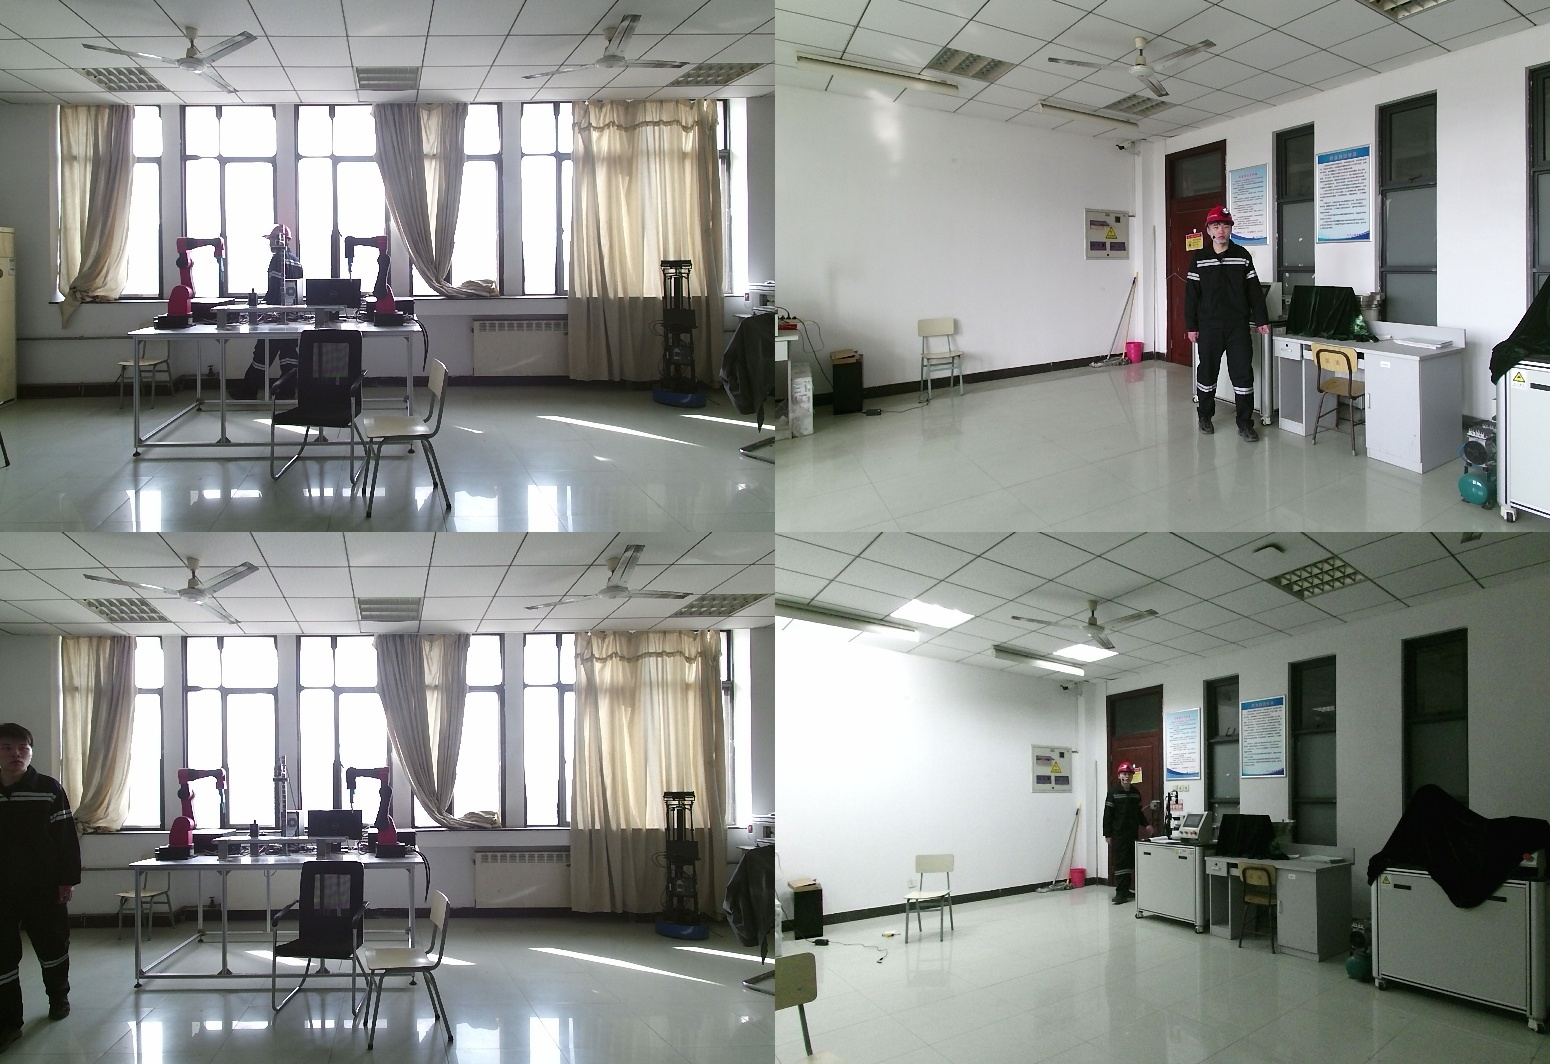person: (3, 723, 88, 1048), (1187, 207, 1275, 440), (229, 227, 301, 402), (1100, 760, 1145, 906)
